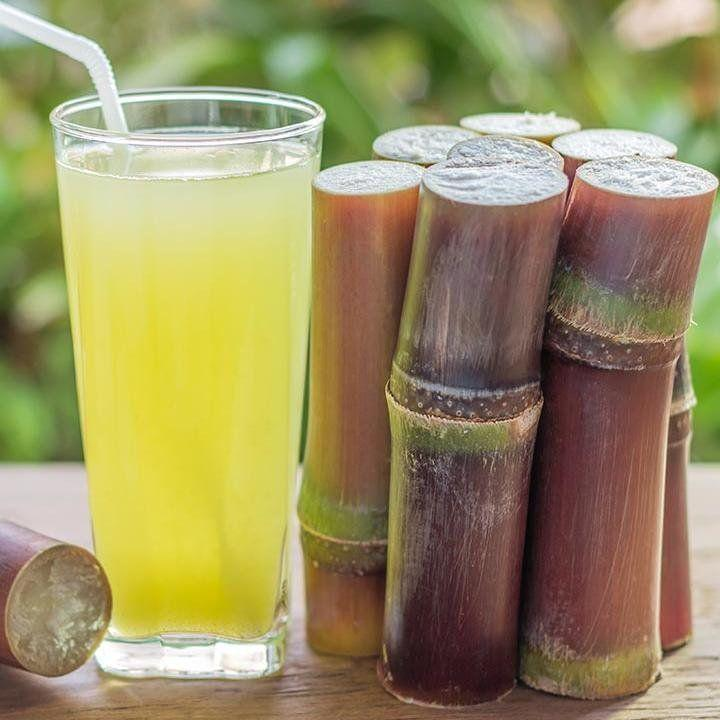glass-normal: (47, 88, 325, 667)
